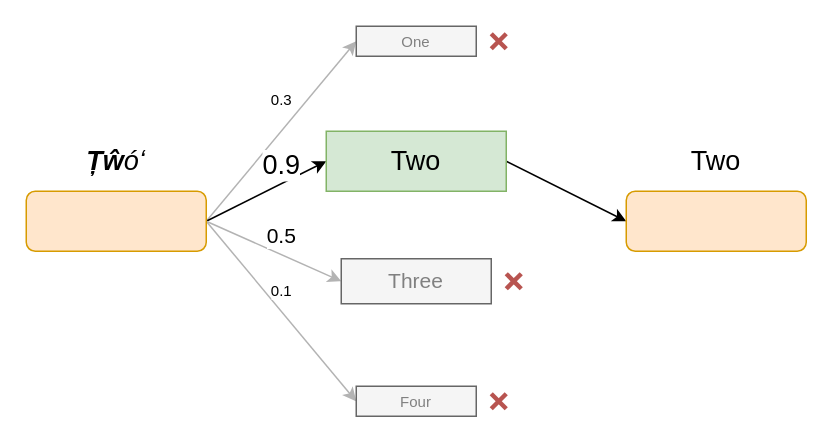
This 833x443 diagram has some shape labels left out. The shapes that lost their labels are listed below. From the top down, each one's centre as x and y in pixels, then its label:
the point at 115,220: input
the point at 715,220: output
